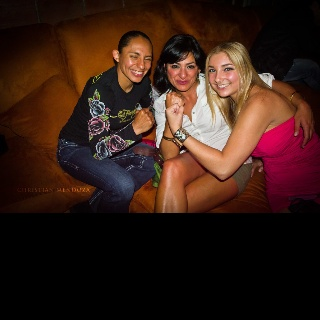without_mask: (119, 37, 151, 82)
